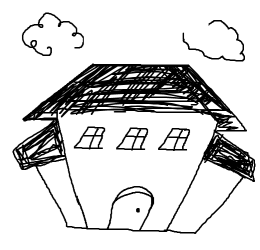closed_window: (158, 125, 195, 162), (73, 120, 107, 160), (116, 122, 152, 157)
clouds: (173, 13, 255, 67), (15, 7, 89, 60)
door: (106, 173, 160, 235)
shaded_roof: (9, 61, 255, 119)
wall: (56, 105, 219, 241)
